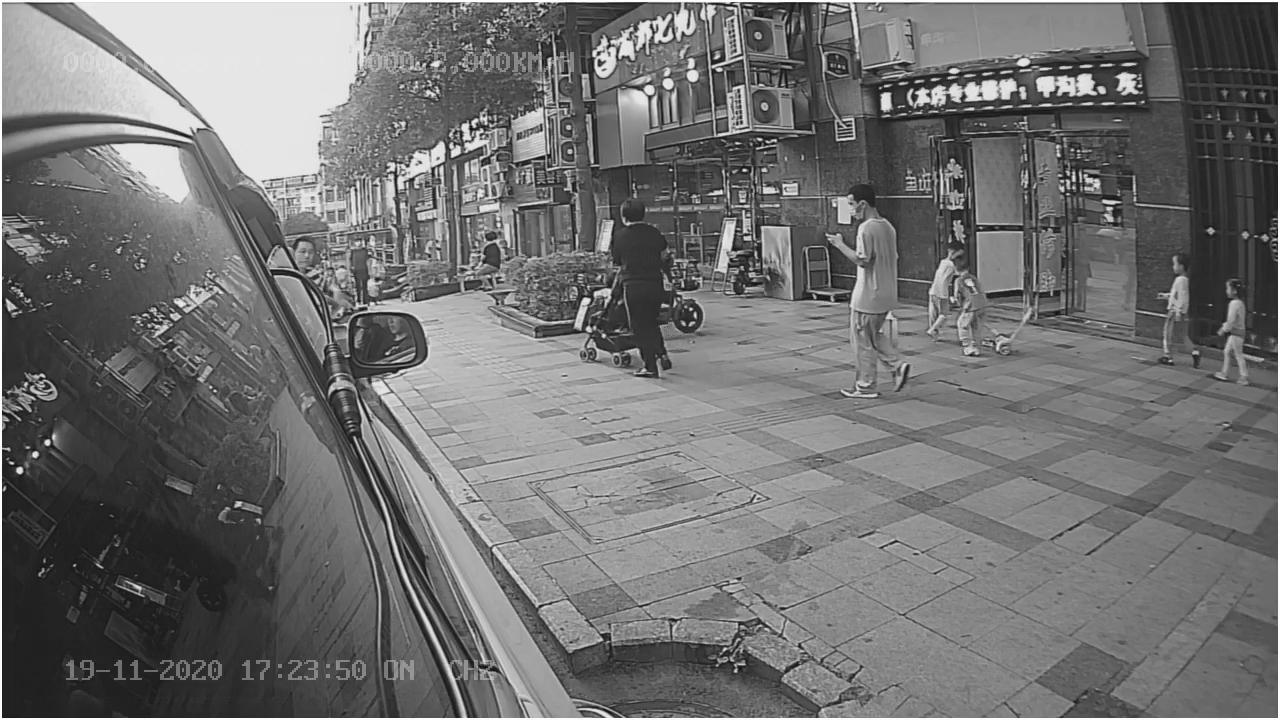person: (818, 186, 917, 405), (605, 196, 679, 381), (1148, 251, 1204, 367), (948, 251, 1006, 359), (1211, 275, 1256, 389)
